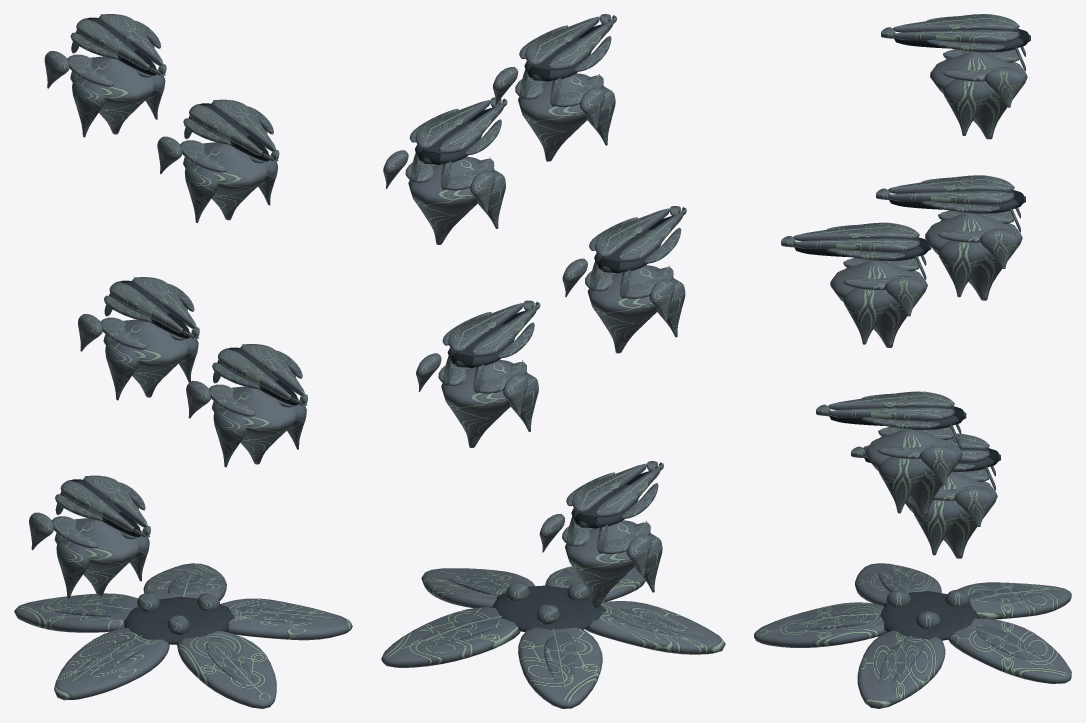
Rendered from GGA2401_source.obj.
The picture shows the model from 3 angles, left to right: view 1: azimuth 30°, elevation 25°; view 2: azimuth 150°, elevation 25°; view 3: azimuth 270°, elevation 25°; orthographic projection. The views are drawn at different scales.
Parts seen in each view (by area): view 1: GGA2401, Island_03, Island_04, Island_05, Island_02, Island_01, Turret_Barrel, Barrel_05, Barrel_01, Barrel_04, Barrel_02; view 2: GGA2401, Island_03, Island_01, Island_05, Island_04, Island_02, Barrel_05, Barrel_01, Barrel_02, Turret_Barrel, Barrel_04; view 3: GGA2401, Island_03, Island_02, Island_05, Island_04, Island_01, Barrel_02, Barrel_04, Barrel_05, Turret_Barrel, Barrel_01.
Part boxes in pixels (x1=…): GGA2401: x1=14, y1=563, x2=352, y2=708; Island_03: x1=78, y1=304, x2=198, y2=400; Island_04: x1=157, y1=127, x2=277, y2=222; Island_05: x1=44, y1=41, x2=165, y2=137; Island_02: x1=186, y1=371, x2=306, y2=467; Island_01: x1=29, y1=503, x2=149, y2=598; Turret_Barrel: x1=104, y1=277, x2=199, y2=339; Barrel_05: x1=70, y1=14, x2=166, y2=76; Barrel_01: x1=55, y1=475, x2=150, y2=537; Barrel_04: x1=183, y1=99, x2=279, y2=161; Barrel_02: x1=212, y1=344, x2=307, y2=406; GGA2401: x1=381, y1=566, x2=725, y2=708; Island_03: x1=562, y1=255, x2=685, y2=353; Island_01: x1=539, y1=510, x2=662, y2=608; Island_05: x1=493, y1=63, x2=615, y2=161; Island_04: x1=383, y1=147, x2=505, y2=244; Island_02: x1=416, y1=350, x2=538, y2=447; Barrel_05: x1=519, y1=14, x2=616, y2=81; Barrel_01: x1=566, y1=461, x2=663, y2=528; Barrel_02: x1=442, y1=300, x2=540, y2=367; Turret_Barrel: x1=589, y1=206, x2=686, y2=273; Barrel_04: x1=409, y1=97, x2=507, y2=164; GGA2401: x1=754, y1=563, x2=1071, y2=708; Island_03: x1=830, y1=249, x2=927, y2=347; Island_02: x1=865, y1=418, x2=962, y2=516; Island_05: x1=930, y1=41, x2=1027, y2=139; Island_04: x1=925, y1=202, x2=1022, y2=300; Island_01: x1=905, y1=466, x2=997, y2=558; Barrel_02: x1=816, y1=391, x2=966, y2=429; Barrel_04: x1=876, y1=175, x2=1025, y2=213; Barrel_05: x1=881, y1=14, x2=1030, y2=52; Turret_Barrel: x1=781, y1=222, x2=931, y2=260; Barrel_01: x1=851, y1=433, x2=1000, y2=471.
Bounding box in the file's own units: 33.46 × 66.02 × 31.83.
1 material, 1 textured.
